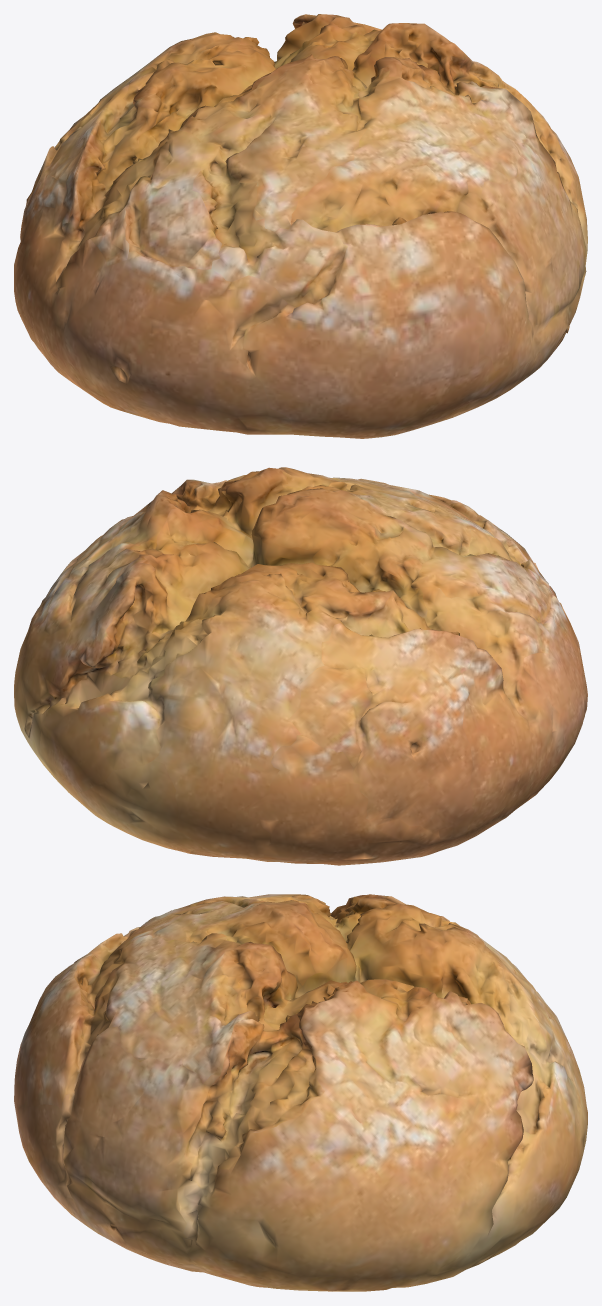
Rendered from bread-roll.glb.
3 views of the same model, one above another, from view 1: azimuth 30°, elevation 25°; view 2: azimuth 150°, elevation 25°; view 3: azimuth 270°, elevation 25° (orthographic). The views are drawn at different scales.
Visible parts, largest first — view 1: bread-roll; view 2: bread-roll; view 3: bread-roll.
Boxes of the visible parts, bbox=[...] form: bread-roll: bbox=[14, 14, 587, 438]; bread-roll: bbox=[14, 467, 587, 865]; bread-roll: bbox=[14, 894, 587, 1291].
Size of the model in its own units: 0.1098 by 0.0608 by 0.1071.
1 material, 1 textured.
